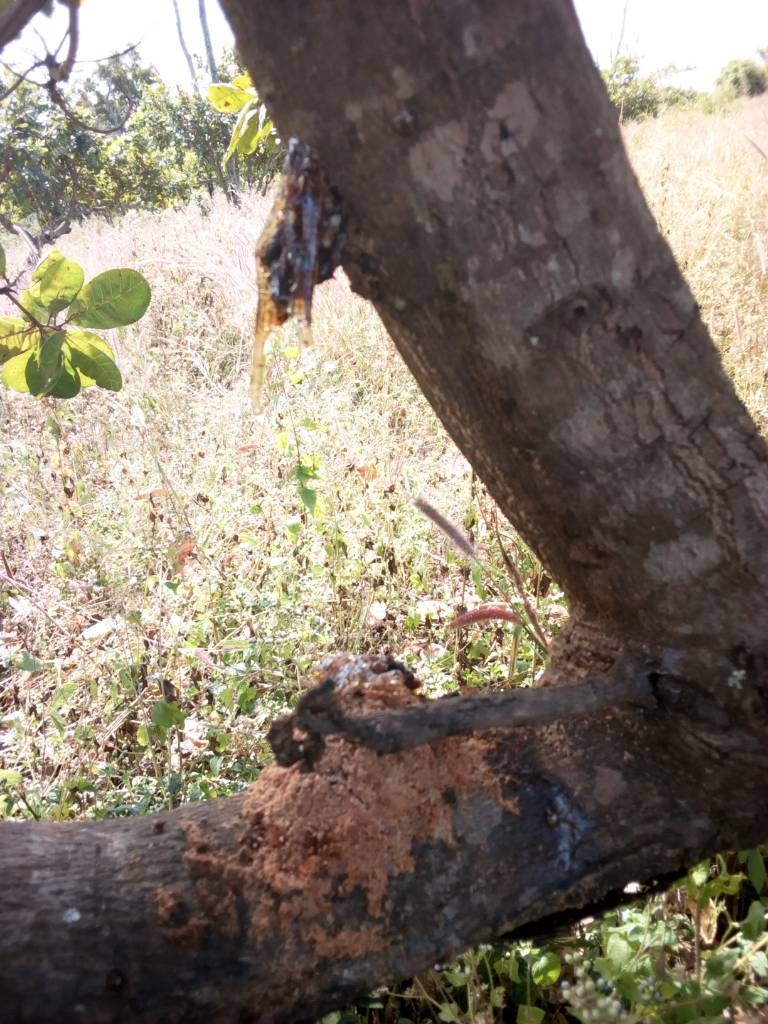Apate terebrans: (221, 127, 418, 357)
